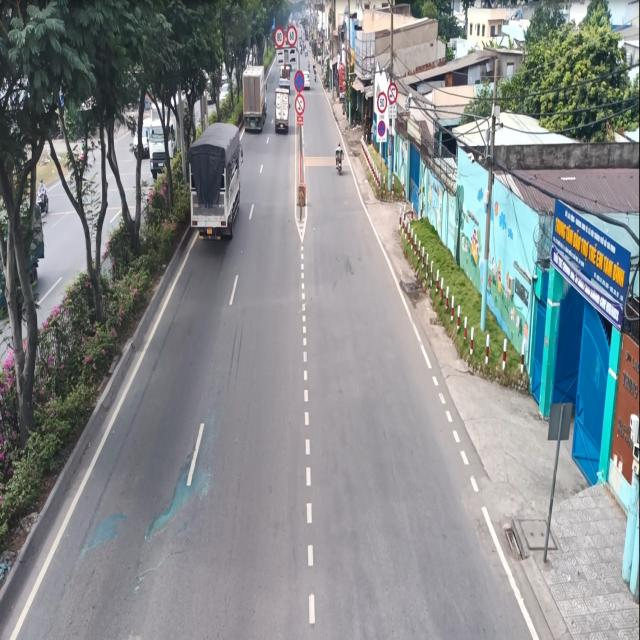truck: (184, 126, 248, 250), (238, 64, 270, 135), (271, 82, 293, 134)
